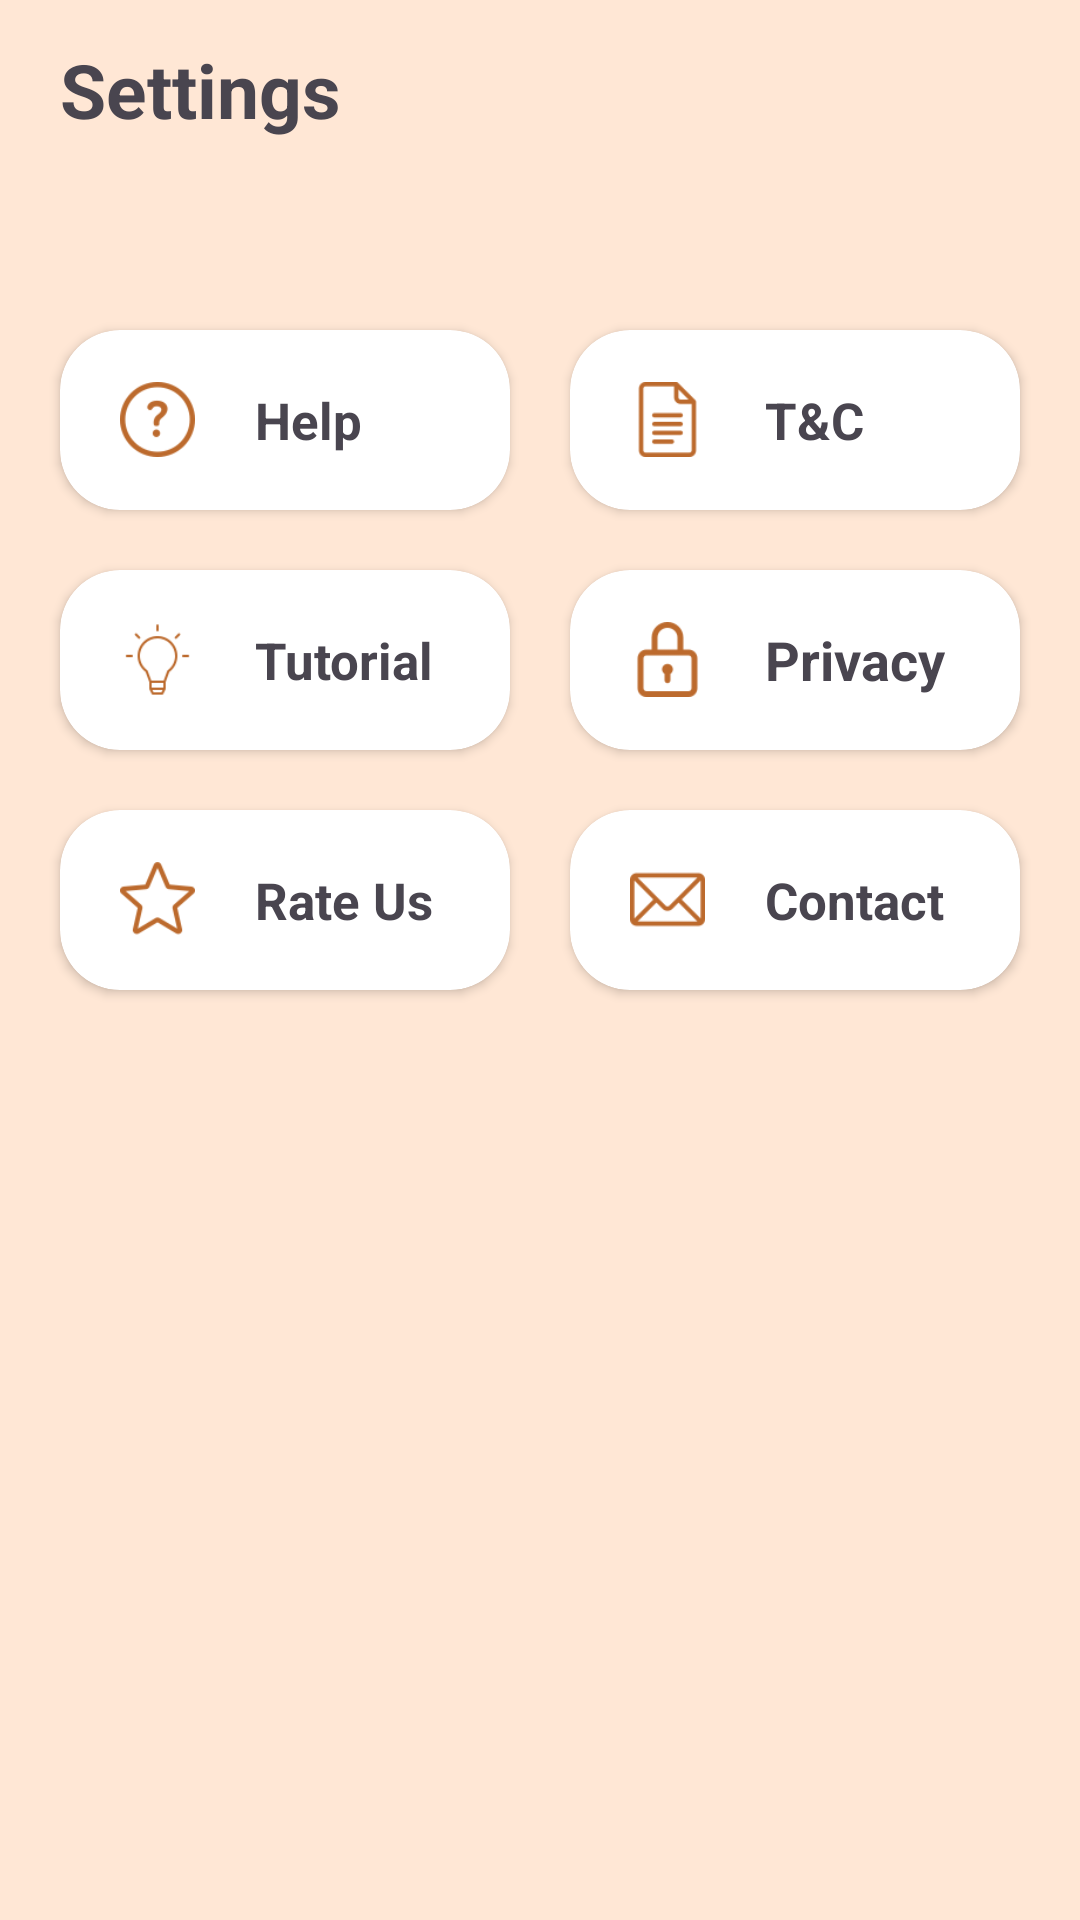

Icon click points for this 1080 × 1920 phone screenshot, format point (x, y):
bulb: point (157, 659)
email: point (667, 899)
padlock: point (667, 659)
question: point (157, 419)
star: point (157, 898)
